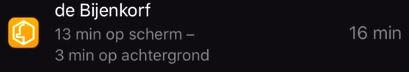name: (50, 1, 156, 22)
time: (52, 45, 97, 68), (52, 24, 103, 44)
